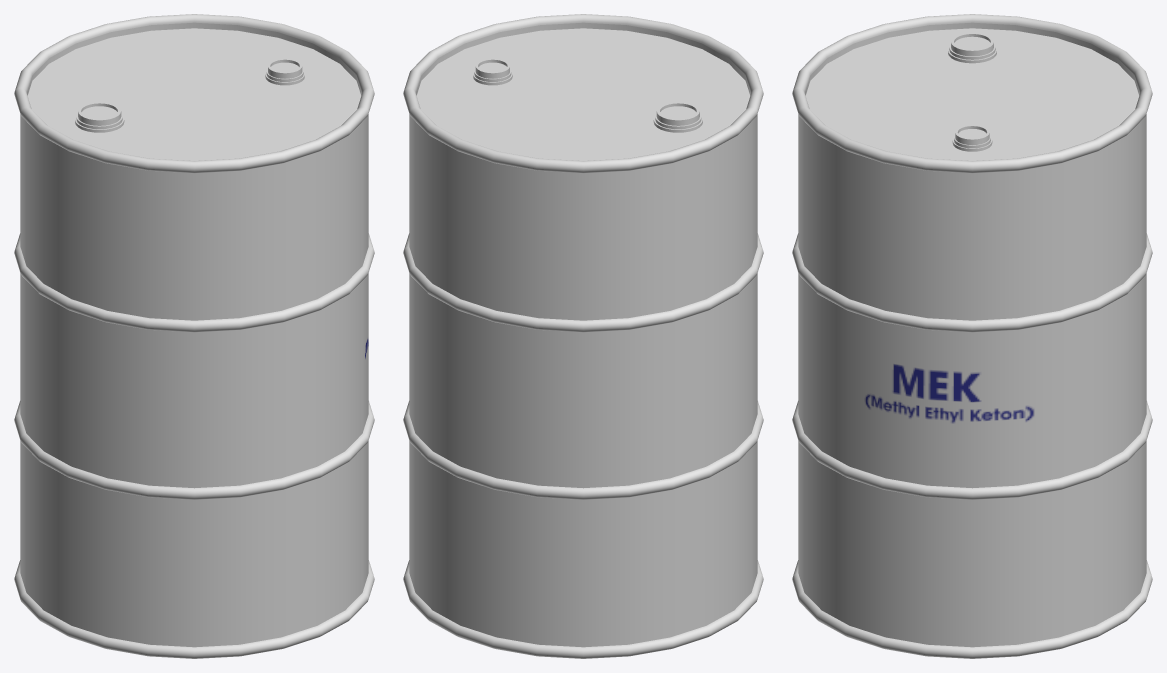
Rendered from MEK FIX.fbx.
3 renders of one model, left to right at view 1: azimuth 30°, elevation 25°; view 2: azimuth 150°, elevation 25°; view 3: azimuth 270°, elevation 25°, orthographic.
Visible parts, largest first — view 1: meki; view 2: meki; view 3: meki.
Boxes of the visible parts, bbox=[...] form: meki: bbox=[14, 14, 374, 658]; meki: bbox=[403, 14, 763, 658]; meki: bbox=[792, 14, 1152, 658].
Bounding box in the file's own units: 182 × 277 × 182.
1 material, 1 textured.
